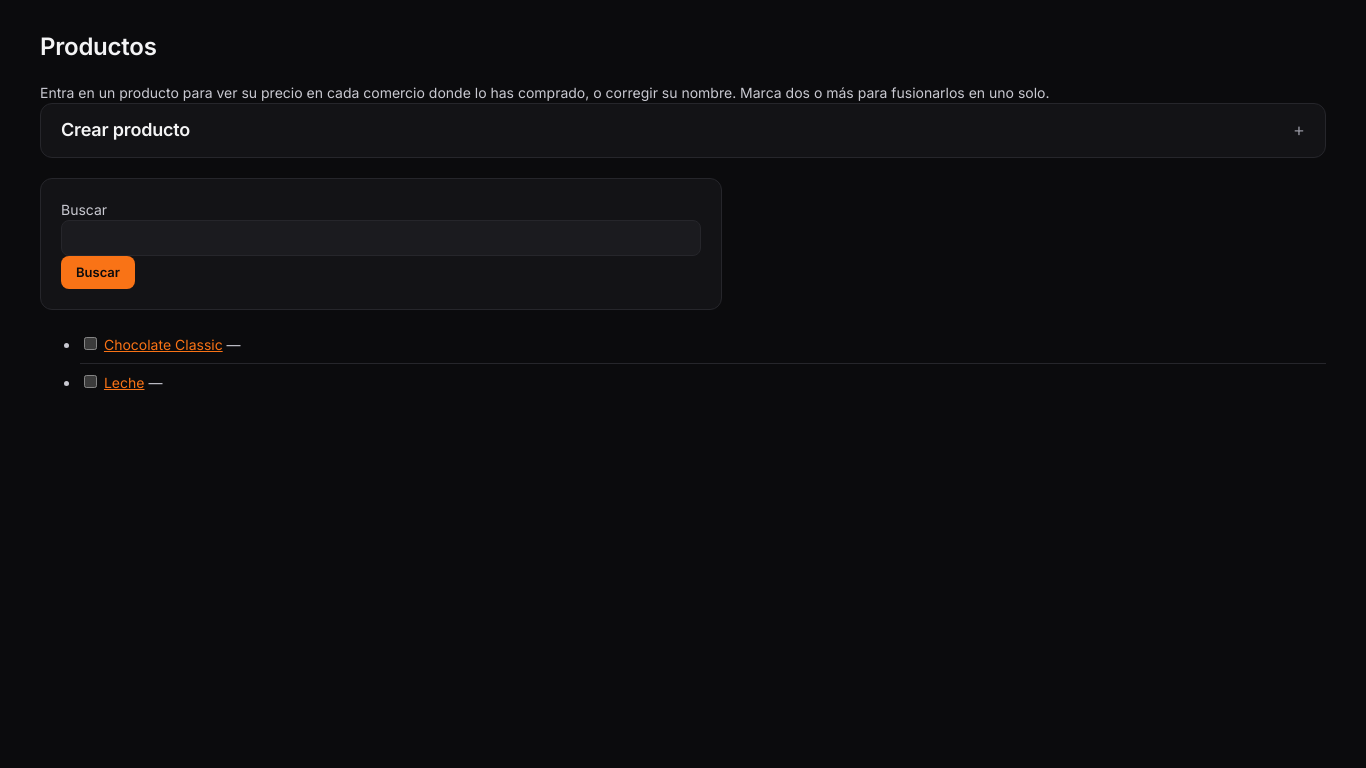
ProductsPage › fusionar productos (spec 038, H1) › un error al fusionar se muestra sin perder la selección
This screenshot has width=1366, height=768.
Check: the link "Chocolate Classic" is shown, box [104,336,223,353]
Click the checkbox labelled "Chocolate Classic": (90, 344) [84,337,97,350]
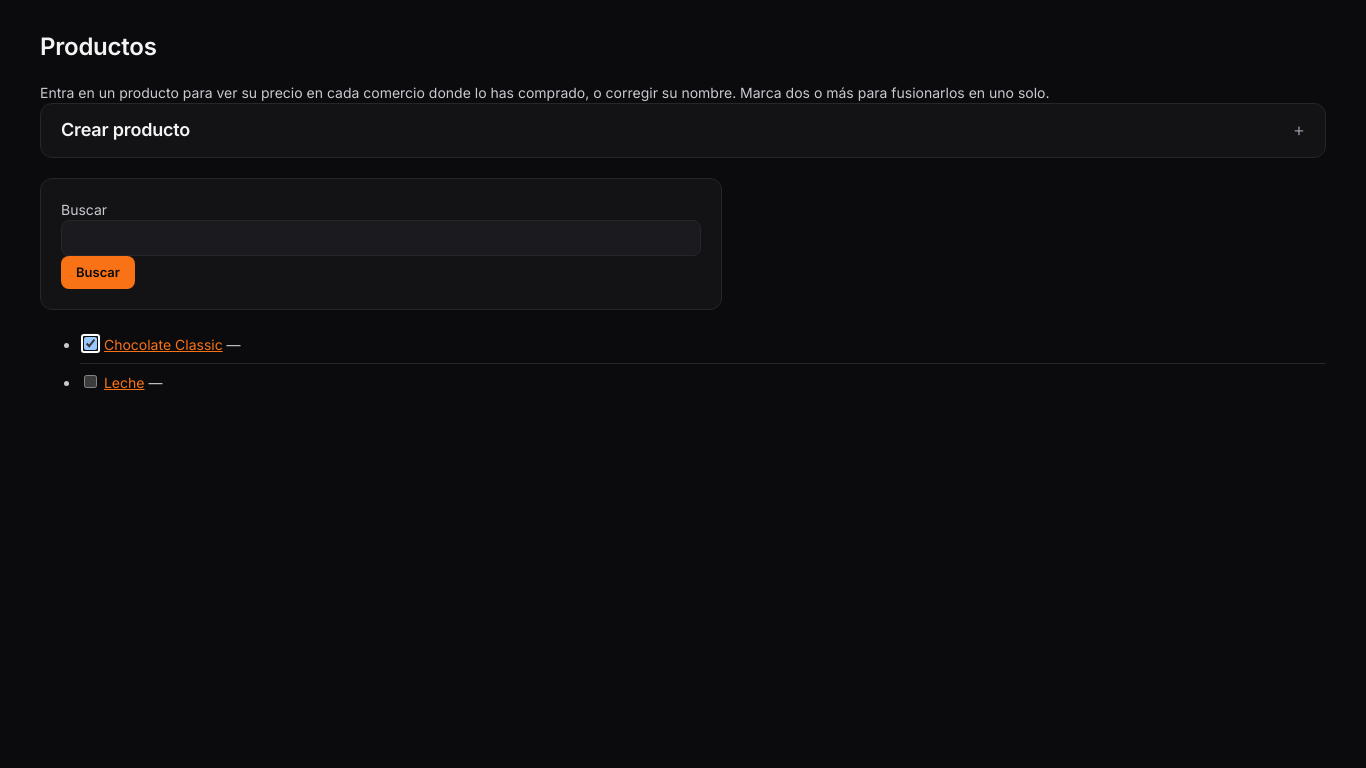
Click the checkbox labelled "Leche": (90, 382) [84,375,97,388]
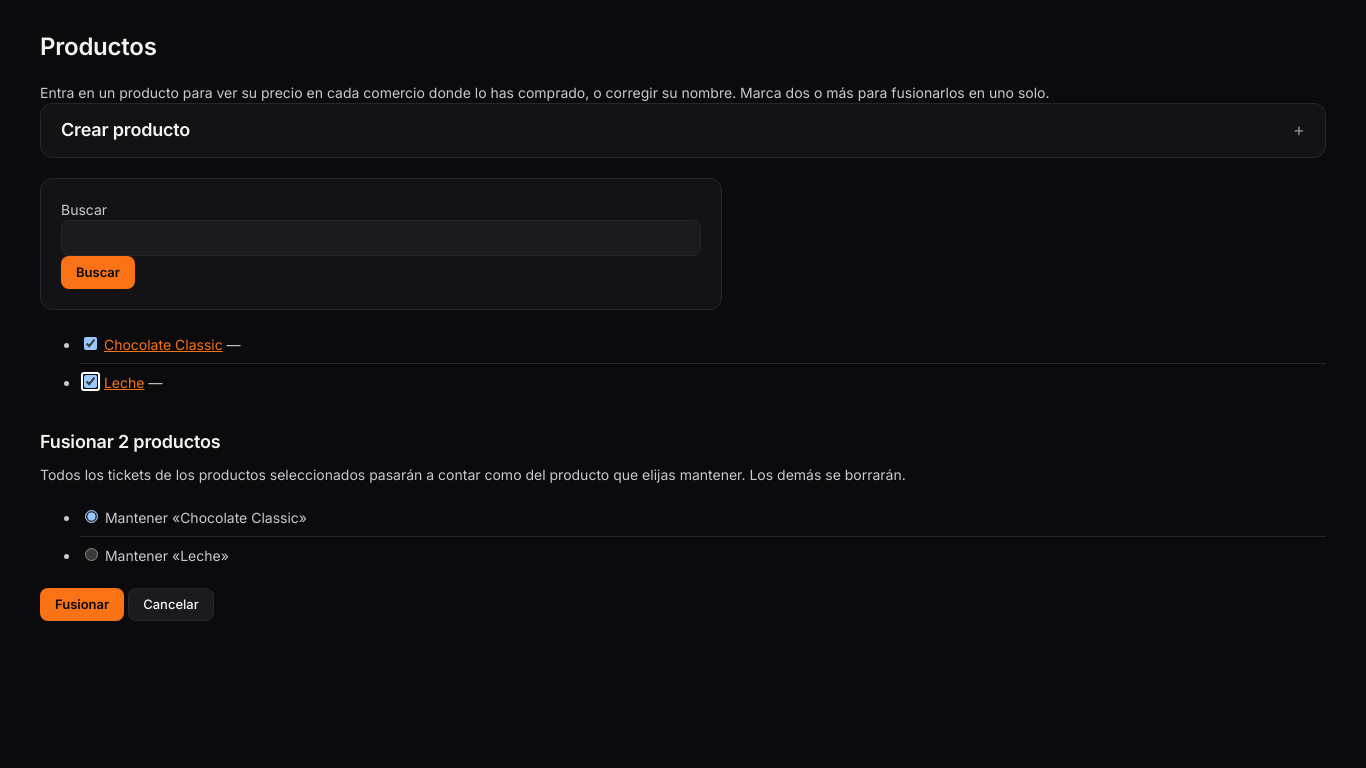
Click the button "Fusionar": (82, 604) [40,588,124,621]
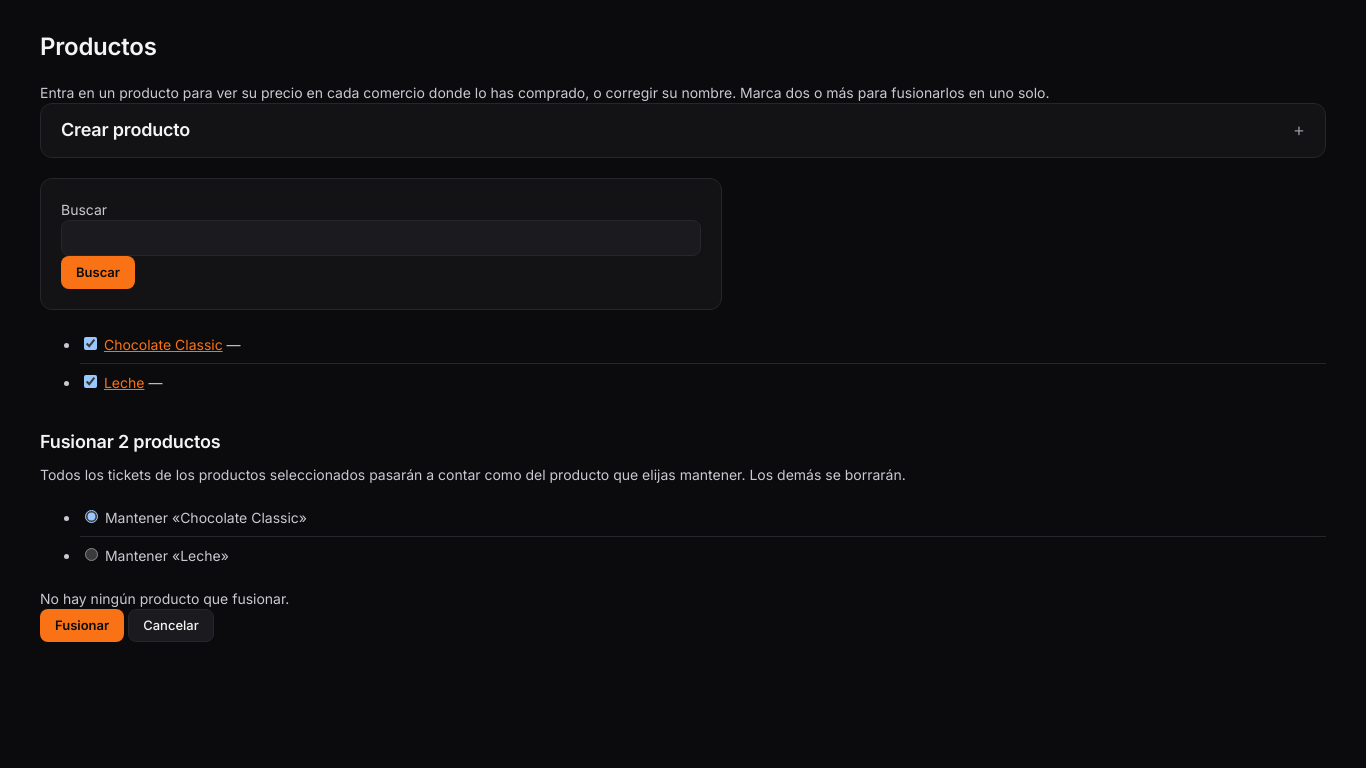
Check: the heading "Fusionar 2 productos" is shown, box [40,431,220,452]
Check: the message reads "No hay ningún producto que fusionar.", box [40,590,289,607]
